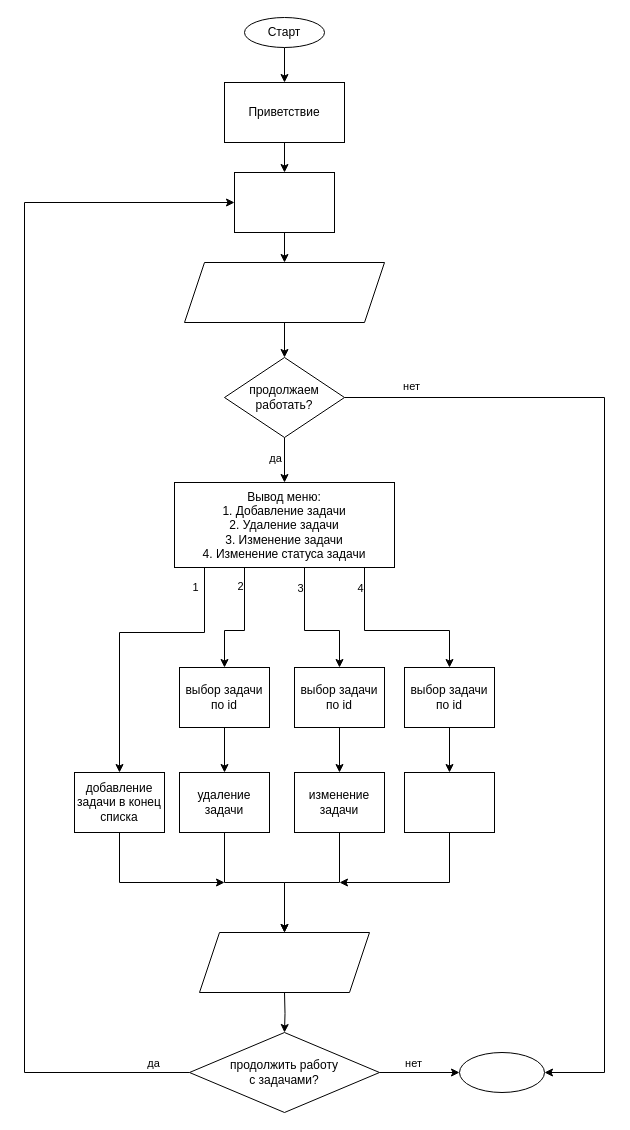
Some shapes in this 630 by 1130 pixel diagram are drawn without their labels. Here are the shapes that lost their labels. From the top down, the box of each, then its label:
(234, 172, 334, 232): чтение списка задач из файла
(184, 262, 384, 322): Вывод списка задач на экран
(404, 772, 494, 832): изменение статуса задачи
(198, 932, 370, 992): обновление файла с задачами
(458, 1052, 544, 1092): конец
